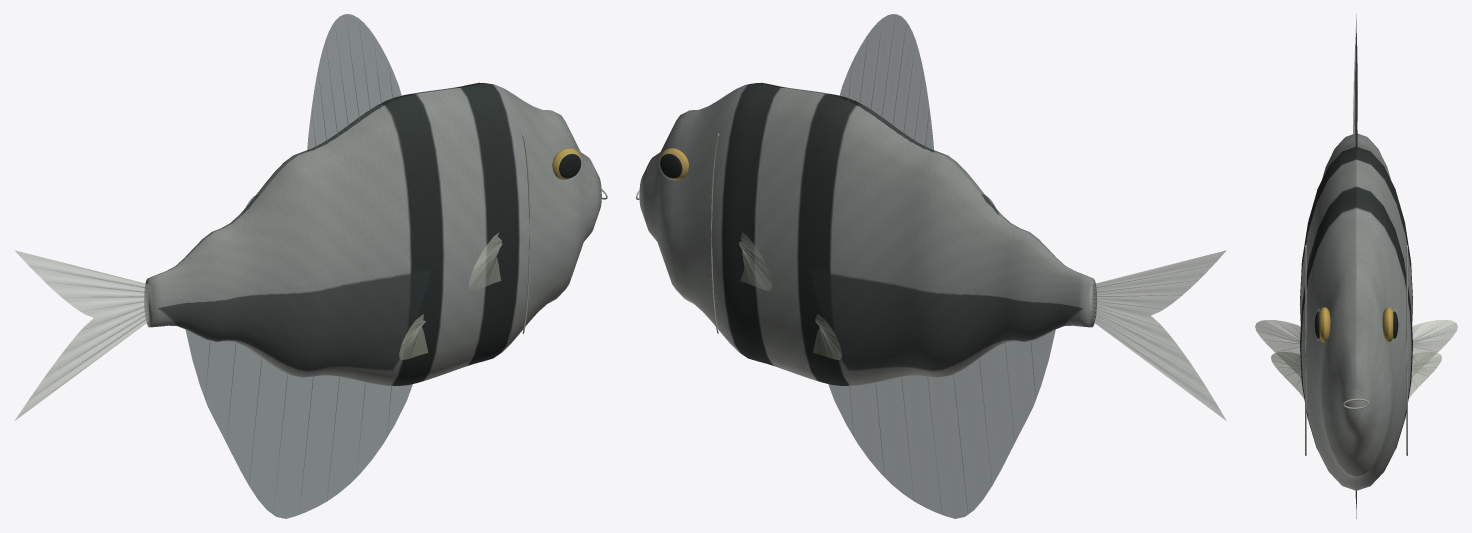
Rendered from blackskirt-mobile.glb.
3 renders of one model, left to right at view 1: azimuth 30°, elevation 25°; view 2: azimuth 150°, elevation 25°; view 3: azimuth 270°, elevation 25°, orthographic. The views are drawn at different scales.
Visible parts, largest first — view 1: skin, anal, tail, dorsal, dorsal-ray, pectoral-left, pelvic-left; view 2: skin, anal, tail, dorsal, dorsal-ray, pectoral-left, pelvic-left; view 3: skin, pectoral-left, pelvic-left, operculum, eye-iris--1, dorsal-ray, dorsal, eye-pupil--1, tail.
Part boxes in pixels (<box>): skin: <box>144,82,601,385</box>; anal: <box>185,330,412,518</box>; tail: <box>15,250,148,420</box>; dorsal: <box>242,14,401,214</box>; dorsal-ray: <box>30,15,502,514</box>; pectoral-left: <box>469,232,501,290</box>; pelvic-left: <box>399,314,427,359</box>; skin: <box>639,82,1096,385</box>; anal: <box>828,329,1055,518</box>; tail: <box>1092,250,1226,420</box>; dorsal: <box>839,14,998,214</box>; dorsal-ray: <box>739,20,1212,512</box>; pectoral-left: <box>739,232,772,290</box>; pelvic-left: <box>813,314,841,359</box>; skin: <box>1300,133,1412,490</box>; pectoral-left: <box>1255,320,1457,378</box>; pelvic-left: <box>1271,352,1441,398</box>; operculum: <box>1305,245,1407,455</box>; eye-iris--1: <box>1319,307,1393,342</box>; dorsal-ray: <box>1257,69,1455,497</box>; dorsal: <box>1355,19,1357,151</box>; eye-pupil--1: <box>1314,311,1398,338</box>; tail: <box>1353,14,1356,133</box>.
Size of the model in its own units: 0.6032 by 0.4812 by 0.1718.
Materials: 11 (1 with a texture image).
